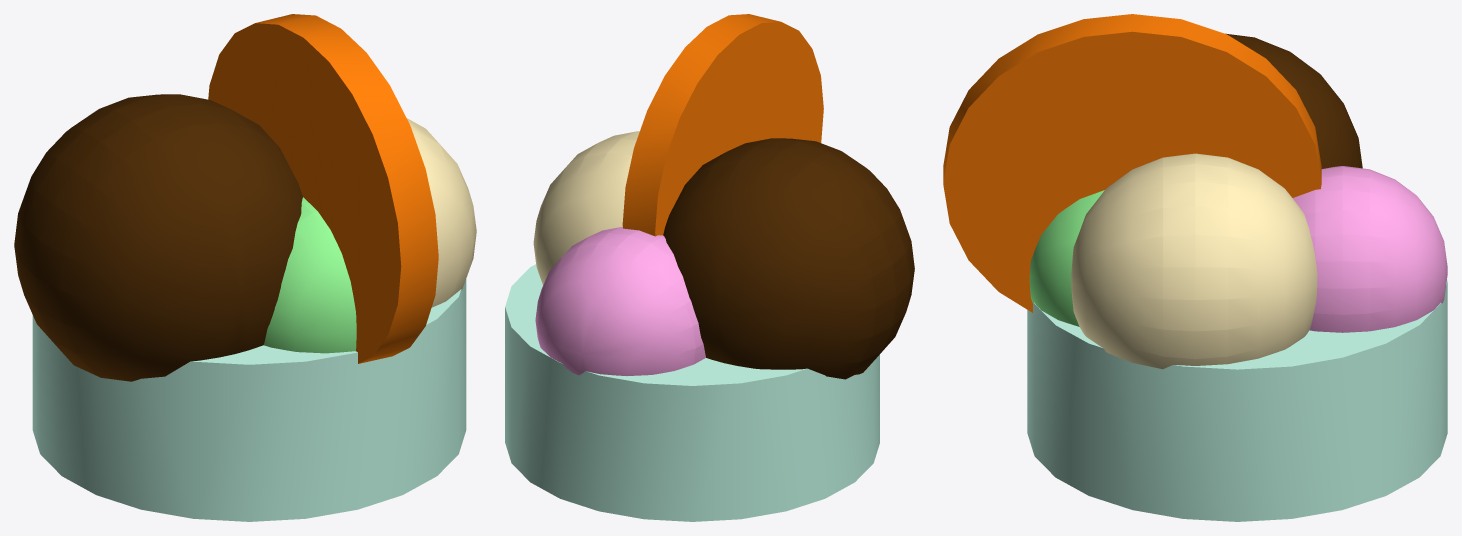
The model's file is icecream.obj.
3 views of the same model, side by side, from view 1: azimuth 30°, elevation 25°; view 2: azimuth 150°, elevation 25°; view 3: azimuth 270°, elevation 25° (orthographic). The views are drawn at different scales.
Size of the model in its own units: 1.1 by 1.1 by 1.2.
